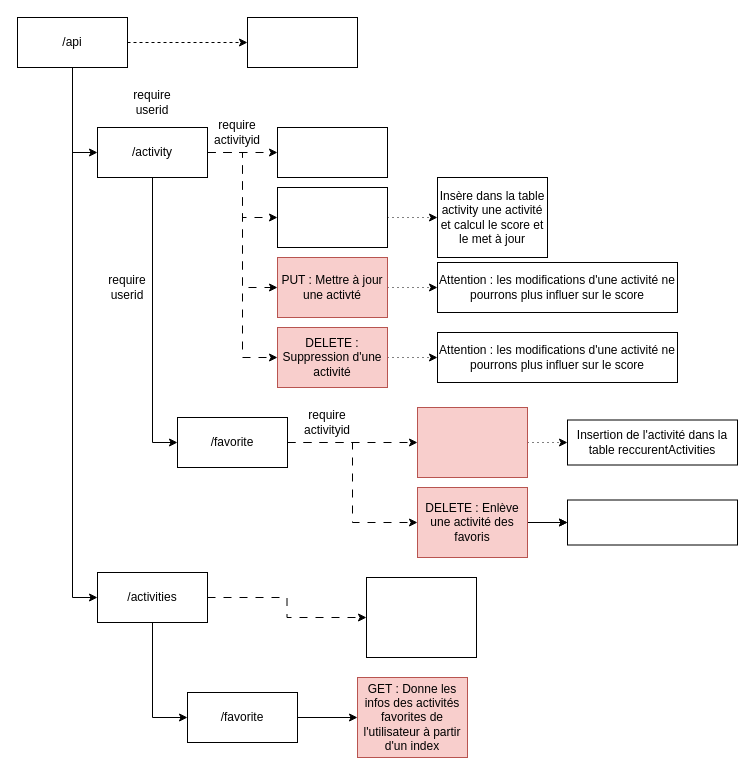
Some shapes in this 755 by 775 pixel diagram are drawn without their labels. The shapes that lost their labels are listed below. From the top down, each one's centre as x and y in pixels, then its label:
At (x=302, y=42): "GET : ping de l'API pour test".
At (x=332, y=152): "GET : Donne les infos d'une activité".
At (x=332, y=217): "POST : Demande de création d'une activité".
At (x=472, y=442): "POST : Met en favori une activité".
At (x=652, y=522): "Suppression de l'activité dans la table reccurentActivities".
At (x=421, y=617): "GET : Donne les 20 activités d'un utilisateur à partir d'un index".
